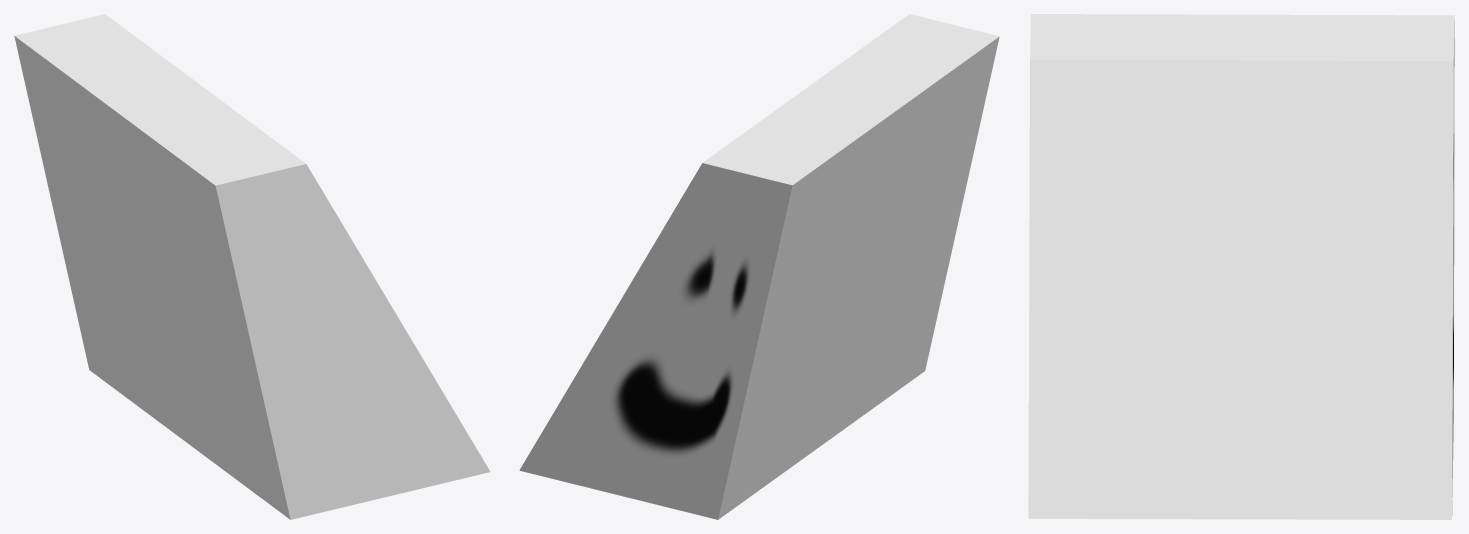
File: float_PL_arm.gltf
3 renders of one model, left to right at view 1: azimuth 30°, elevation 25°; view 2: azimuth 150°, elevation 25°; view 3: azimuth 270°, elevation 25°, orthographic. The views are drawn at different scales.
Parts seen in each view (by area): view 1: 立方体.001; view 2: 立方体.001; view 3: 立方体.001.
Boxes of the visible parts, x1=… form: 立方体.001: x1=14, y1=14, x2=490, y2=519; 立方体.001: x1=519, y1=14, x2=999, y2=519; 立方体.001: x1=1028, y1=14, x2=1454, y2=519.
Bounding box in the file's own units: 0.8403 × 1.02 × 1.08.
